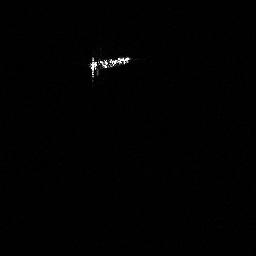ship: (87, 54, 132, 80)
